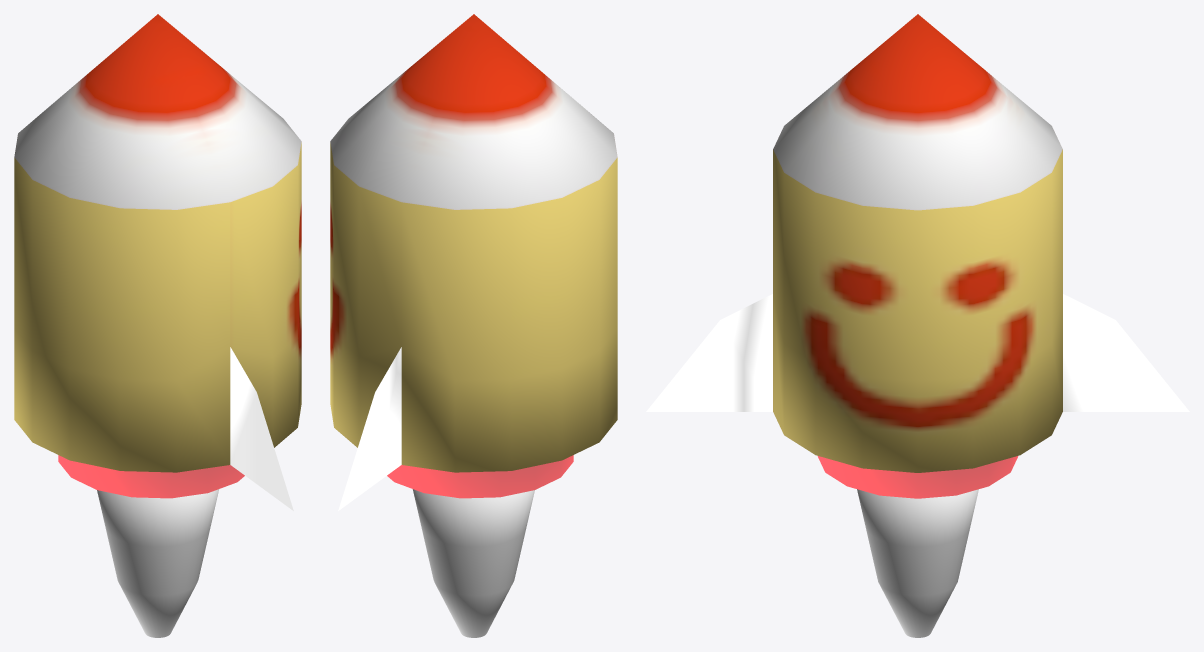
Rendered from ハロトレ2.glb.
The picture shows the model from 3 angles, left to right: view 1: azimuth 30°, elevation 25°; view 2: azimuth 150°, elevation 25°; view 3: azimuth 270°, elevation 25°; orthographic projection.
Visible parts, largest first — view 1: Cylinder, 円柱; view 2: Cylinder, 円柱; view 3: Cylinder, 円柱.
Boxes of the visible parts, x1,y1,x2,y2 form: Cylinder: [14, 14, 301, 510]; 円柱: [97, 489, 219, 637]; Cylinder: [330, 14, 617, 510]; 円柱: [412, 489, 534, 637]; Cylinder: [646, 14, 1189, 498]; 円柱: [857, 489, 978, 637].
Bounding box in the file's own units: 2 × 4.71 × 3.75.
Materials: 4 (1 with a texture image).
